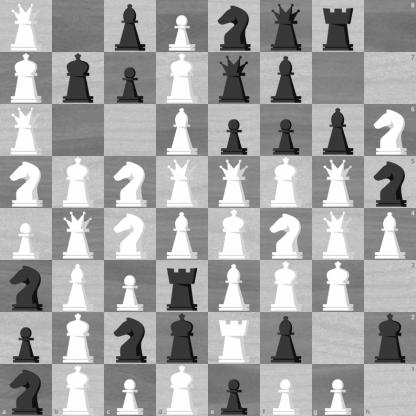B: (364, 209, 416, 260), (53, 261, 104, 312), (157, 105, 208, 156), (157, 209, 208, 260), (209, 261, 260, 312)
K: (156, 364, 209, 416), (52, 364, 104, 416), (1, 53, 52, 104), (53, 157, 104, 208), (53, 313, 104, 364), (157, 53, 208, 104), (209, 209, 260, 260), (261, 157, 312, 208), (261, 261, 312, 312), (313, 261, 364, 312)
N: (364, 104, 416, 156), (1, 157, 52, 208), (105, 157, 156, 208), (105, 209, 156, 260), (261, 209, 312, 260)
P: (104, 364, 156, 416), (260, 364, 312, 416), (312, 364, 364, 416), (1, 209, 52, 260), (105, 261, 156, 312), (157, 1, 208, 52)
Q: (1, 1, 52, 52), (1, 105, 52, 156), (53, 209, 104, 260), (157, 157, 208, 208), (209, 157, 260, 208), (313, 157, 364, 208), (313, 209, 364, 260)
R: (209, 313, 260, 364)
b: (105, 1, 156, 52), (261, 53, 312, 104), (261, 313, 312, 364), (313, 105, 364, 156)
board: (0, 0, 415, 415)
k: (364, 312, 416, 364), (53, 53, 104, 104), (157, 313, 208, 364)
n: (364, 156, 416, 209), (0, 364, 52, 416), (1, 261, 52, 312), (105, 313, 156, 364), (209, 1, 260, 52)
p: (209, 364, 260, 416), (1, 313, 52, 364), (105, 53, 156, 104), (209, 105, 260, 156), (261, 105, 312, 156)
q: (209, 53, 260, 104), (261, 1, 312, 52)
r: (157, 261, 208, 312), (313, 1, 364, 52)
